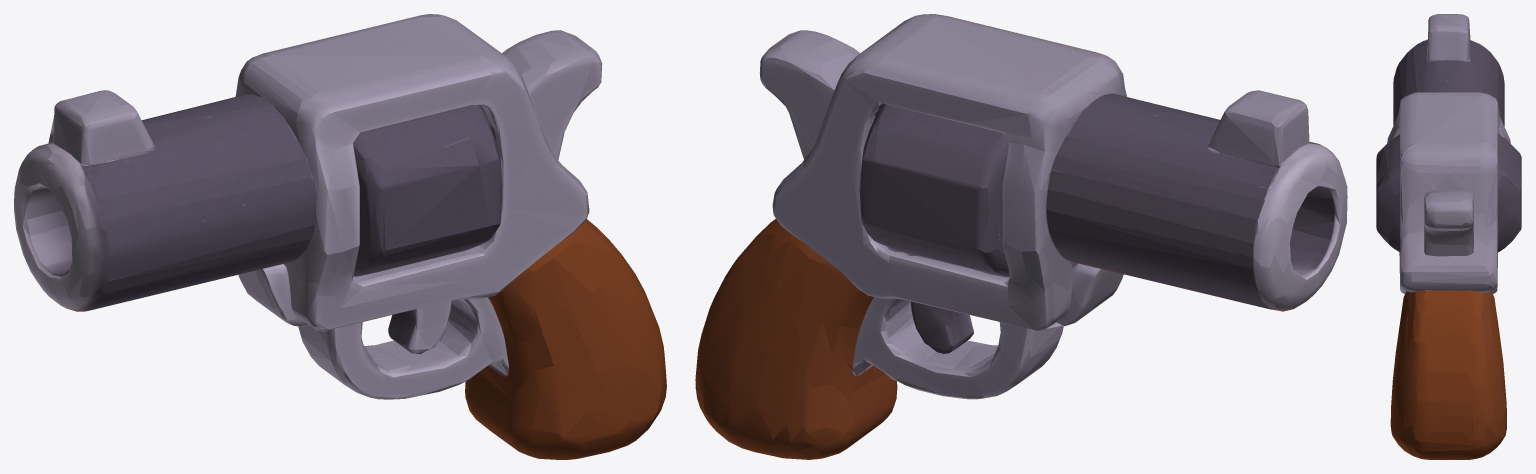
The model's file is dusty_waffe_reduziert.glb.
3 views of the same model, side by side, from view 1: azimuth 30°, elevation 25°; view 2: azimuth 150°, elevation 25°; view 3: azimuth 270°, elevation 25° (orthographic). The views are drawn at different scales.
Visible parts, largest first — view 1: output_unwrapped; view 2: output_unwrapped; view 3: output_unwrapped.
Part boxes in pixels (x1,y1,x2,y2): output_unwrapped: (14,14,666,459); output_unwrapped: (695,14,1347,459); output_unwrapped: (1376,14,1521,459).
Size of the model in its own units: 1.9 by 1.36 by 0.6344.
Materials: 1 (1 with a texture image).
